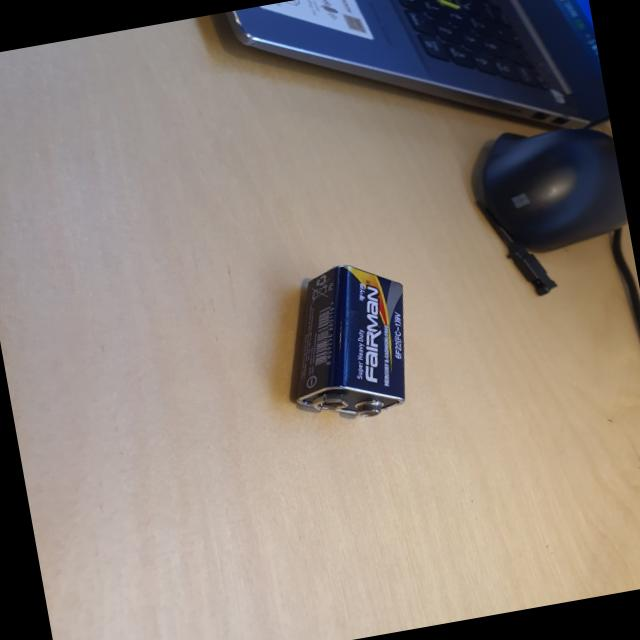battery-etc-etc: (256, 246, 434, 436)
